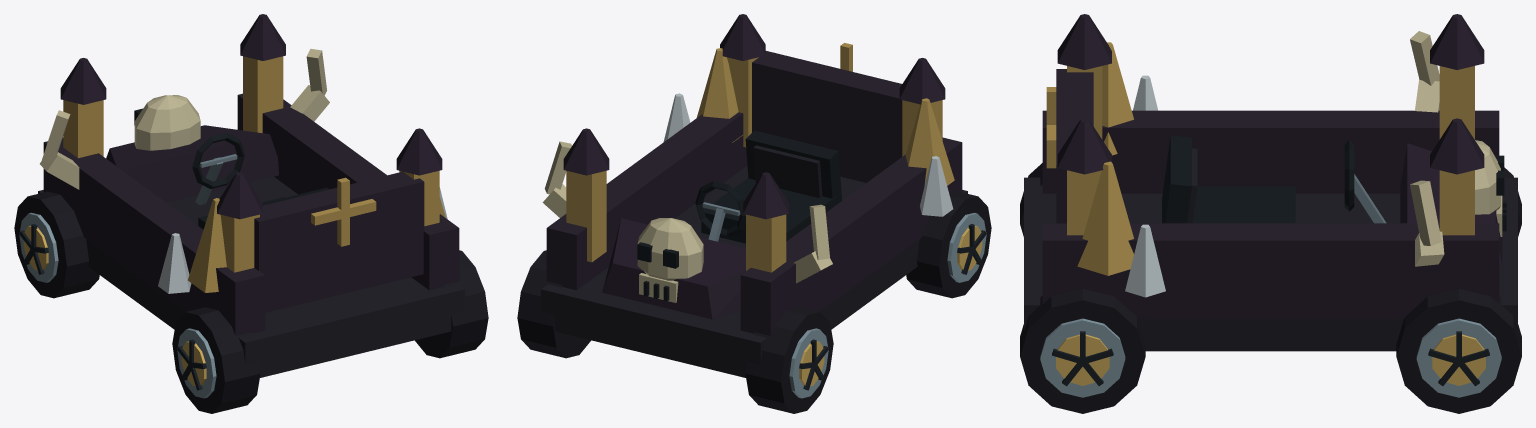
Rendered from kart.glb.
3 views of the same model, side by side, from view 1: azimuth 30°, elevation 25°; view 2: azimuth 150°, elevation 25°; view 3: azimuth 270°, elevation 25° (orthographic). The views are drawn at different scales.
Visible parts, largest first — view 1: identity-reliquary-reliquary-arched-stone-chest, wheel-rear-left, wheel-front-left, identity-reliquary-motif-crystals, wheel-rear-right, identity-reliquary-motif-skull, identity-reliquary-motif-horns, identity-reliquary-driver-cockpit; view 2: identity-reliquary-reliquary-arched-stone-chest, identity-reliquary-driver-cockpit, wheel-front-left, wheel-rear-left, identity-reliquary-motif-crystals, identity-reliquary-motif-skull, wheel-front-right, identity-reliquary-motif-horns; view 3: identity-reliquary-reliquary-arched-stone-chest, wheel-front-right, wheel-rear-right, identity-reliquary-motif-crystals, identity-reliquary-driver-cockpit, identity-reliquary-motif-horns, identity-reliquary-motif-skull.
Boxes of the visible parts, x1,y1,x2,y2 form: identity-reliquary-reliquary-arched-stone-chest: (38, 14, 464, 377); wheel-rear-left: (172, 307, 260, 413); wheel-front-left: (14, 191, 99, 298); identity-reliquary-motif-crystals: (158, 187, 447, 293); wheel-rear-right: (415, 250, 488, 358); identity-reliquary-motif-skull: (134, 95, 200, 150); identity-reliquary-motif-horns: (40, 48, 329, 189); identity-reliquary-driver-cockpit: (192, 132, 329, 229); identity-reliquary-reliquary-arched-stone-chest: (541, 14, 967, 377); identity-reliquary-driver-cockpit: (695, 130, 841, 243); wheel-front-left: (745, 307, 833, 413); wheel-rear-left: (906, 191, 991, 298); identity-reliquary-motif-crystals: (663, 48, 954, 216); identity-reliquary-motif-skull: (637, 218, 703, 302); wheel-front-right: (517, 250, 590, 358); identity-reliquary-motif-horns: (542, 141, 832, 283); identity-reliquary-reliquary-arched-stone-chest: (1024, 14, 1517, 351); wheel-front-right: (1396, 288, 1521, 413); wheel-rear-right: (1020, 288, 1145, 413); identity-reliquary-motif-crystals: (1077, 42, 1165, 297); identity-reliquary-driver-cockpit: (1162, 135, 1386, 223); identity-reliquary-motif-horns: (1410, 31, 1444, 266); identity-reliquary-motif-skull: (1475, 140, 1506, 236).
Bounding box in the file's own units: 2.01 × 1.51 × 2.56.
